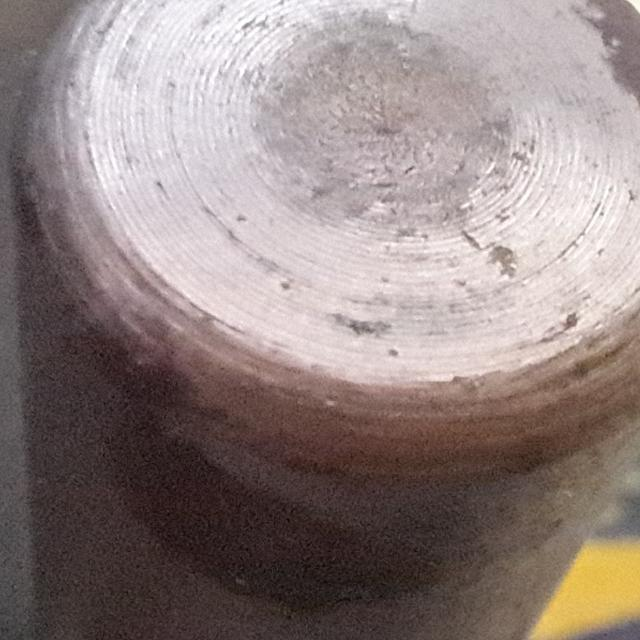planson: (18, 0, 640, 640)
